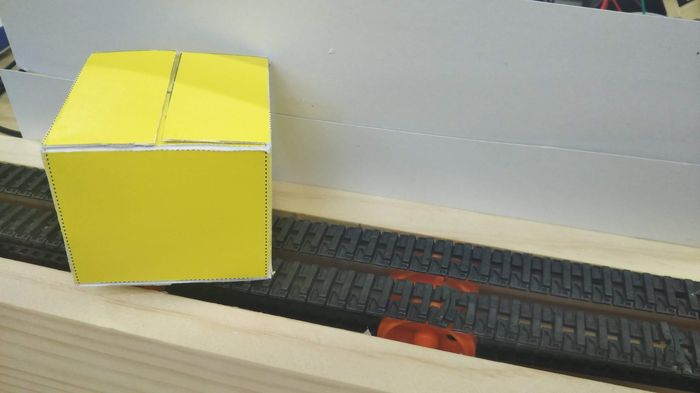box4: (36, 49, 280, 289)
